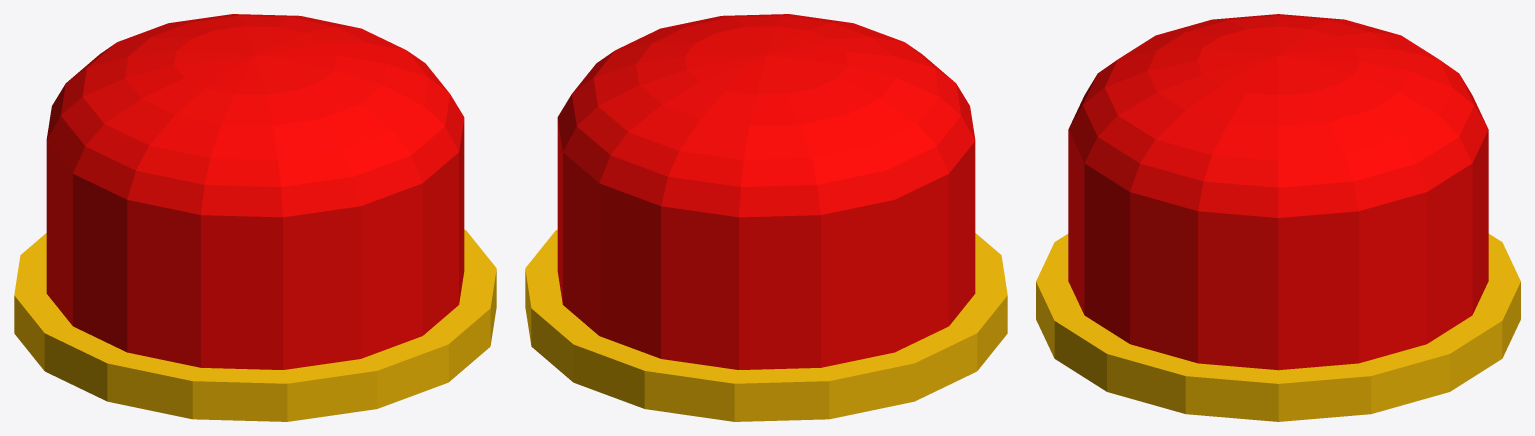
File: Alarm.fbx
The picture shows the model from 3 angles, left to right: view 1: azimuth 30°, elevation 25°; view 2: azimuth 150°, elevation 25°; view 3: azimuth 270°, elevation 25°; orthographic projection.
Visible parts, largest first — view 1: Cylinder; view 2: Cylinder; view 3: Cylinder.
Boxes of the visible parts, bbox=[...] form: Cylinder: bbox=[14, 14, 496, 421]; Cylinder: bbox=[525, 14, 1007, 421]; Cylinder: bbox=[1036, 14, 1520, 421].
Bounding box in the file's own units: 11.06 × 6.64 × 11.06.
